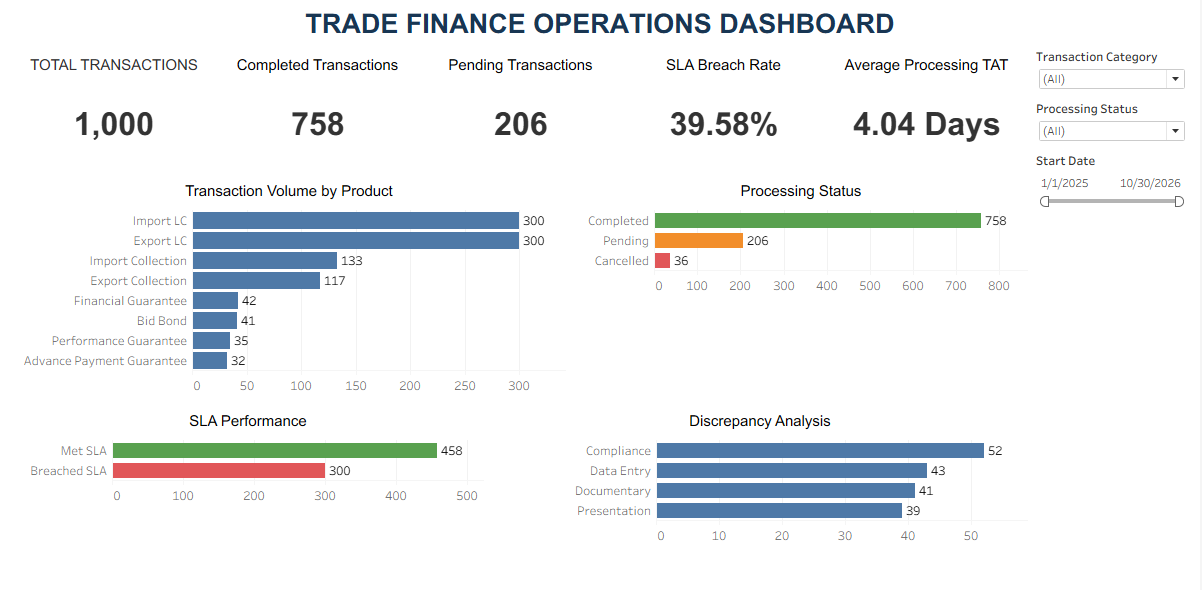

What the dashboard file says about the page in this screenshot:
{"tool":"tableau","page":{"name":"Trade Finance Operations Dashboard","canvas":[1200,850],"ordinal":0},"visuals":[{"type":"title","box":[8,8,1184,39]},{"type":"filter","title":"Transaction Volume by Product","param":"[federated.0stnsow1xrxv7g1ev3y7i1pe3bj2].[none:Transaction_Category:nk]","box":[1032,47,160,52]},{"type":"worksheet","title":"KPI - Total Transactions","mark":"Automatic","box":[12,51,204,122]},{"type":"worksheet","title":"KPI – Completed Transactions","mark":"Automatic","box":[216,51,203,122]},{"type":"worksheet","title":"KPI - Pending Transactions","mark":"Automatic","box":[419,51,203,122]},{"type":"worksheet","title":"KPI - SLA Breach Rate","mark":"Automatic","box":[622,51,203,122]},{"type":"worksheet","title":"KPI - Average Processing TAT","mark":"Automatic","box":[825,51,203,122]},{"type":"filter","title":"Processing Status","param":"[federated.0stnsow1xrxv7g1ev3y7i1pe3bj2].[none:Processing_Status:nk]","box":[1032,99,160,52]},{"type":"filter","title":"Transaction Volume by Product","param":"[federated.0stnsow1xrxv7g1ev3y7i1pe3bj2].[none:Start_Date:qk]","box":[1032,151,160,69]},{"type":"worksheet","title":"Transaction Volume by Product","mark":"Automatic","rows":["Transaction_Category"],"cols":["Transaction_ID"],"box":[8,177,562,230]},{"type":"worksheet","title":"Processing Status","mark":"Automatic","rows":["Processing_Status"],"cols":["Transaction_ID"],"box":[570,177,462,230]},{"type":"worksheet","title":"SLA Performance","mark":"Automatic","rows":["SLA_Breach"],"cols":["Transaction_ID"],"box":[8,407,480,150]},{"type":"worksheet","title":"Discrepancy Analysis","mark":"Automatic","rows":["Discrepancy_Type"],"cols":["Discrepancy_ID"],"box":[488,407,544,150]}]}

Visuals, with their boxes on the page's 1200x850 design canvas (x1, y1, x2, y2). These are canvas units, not pixel positions in the 1202x590 screenshot, which may show the page scaled, cropped or inside an application window:
title: (8, 8, 1192, 47)
"Transaction Volume by Product" filter: (1032, 47, 1192, 99)
"KPI - Total Transactions" worksheet: (12, 51, 216, 173)
"KPI – Completed Transactions" worksheet: (216, 51, 419, 173)
"KPI - Pending Transactions" worksheet: (419, 51, 622, 173)
"KPI - SLA Breach Rate" worksheet: (622, 51, 825, 173)
"KPI - Average Processing TAT" worksheet: (825, 51, 1028, 173)
"Processing Status" filter: (1032, 99, 1192, 151)
"Transaction Volume by Product" filter: (1032, 151, 1192, 220)
"Transaction Volume by Product" worksheet: (8, 177, 570, 407)
"Processing Status" worksheet: (570, 177, 1032, 407)
"SLA Performance" worksheet: (8, 407, 488, 557)
"Discrepancy Analysis" worksheet: (488, 407, 1032, 557)
